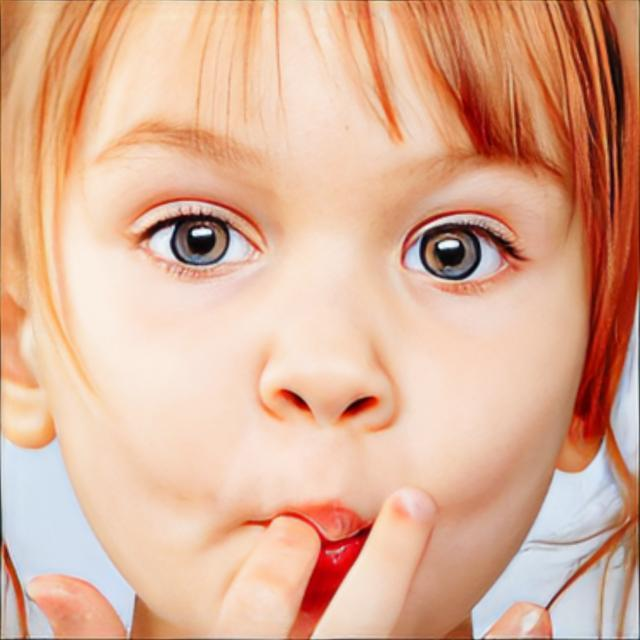surprise: (53, 0, 594, 640)
